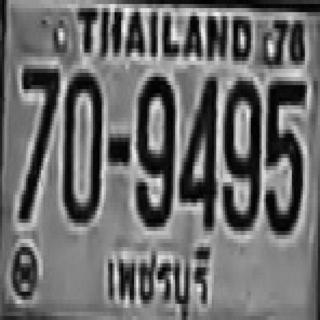N00: (61, 69, 100, 219)
N04: (178, 73, 215, 227)
N05: (264, 77, 305, 231)
N07: (17, 65, 58, 219)
N09: (220, 77, 260, 227), (134, 73, 173, 223)
P44: (102, 243, 214, 320)
